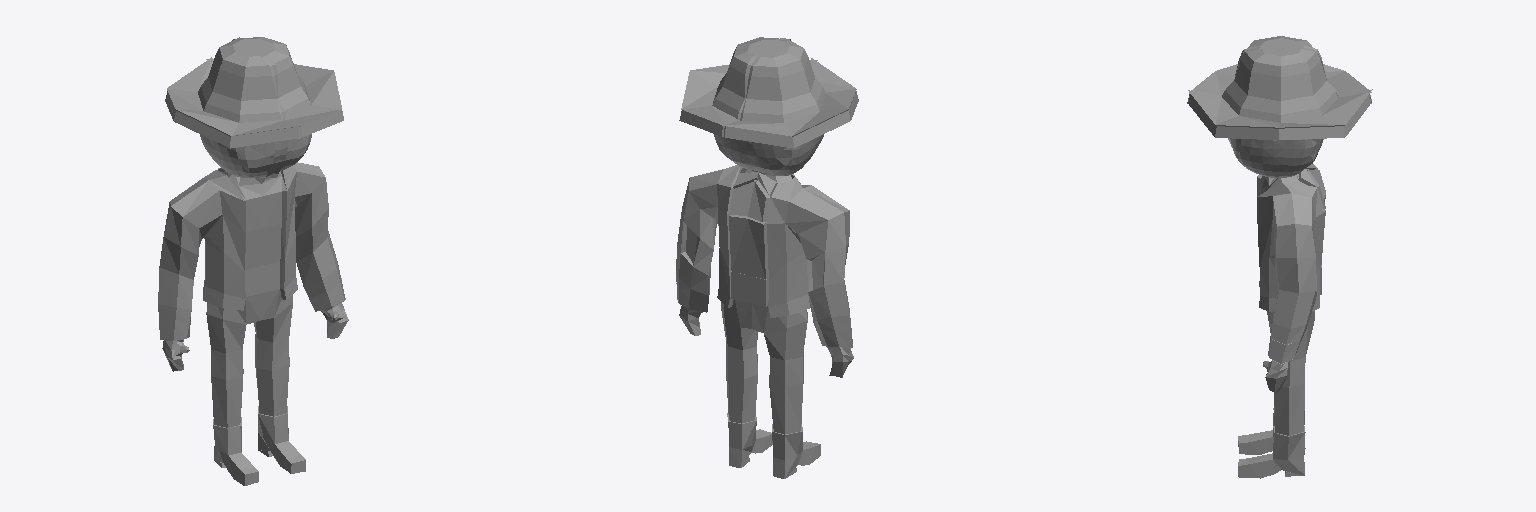
File: character.obj
The picture shows the model from 3 angles: view 1: azimuth 30°, elevation 25°; view 2: azimuth 150°, elevation 25°; view 3: azimuth 270°, elevation 25°; orthographic projection.
Parts seen in each view (by area): view 1: Cube_Cube.001; view 2: Cube_Cube.001; view 3: Cube_Cube.001.
Boxes of the visible parts, x1,y1,x2,y2 form: Cube_Cube.001: [158, 37, 348, 485]; Cube_Cube.001: [676, 37, 858, 478]; Cube_Cube.001: [1187, 36, 1372, 478].
Bounding box in the file's own units: 6.8 × 14.94 × 6.04.